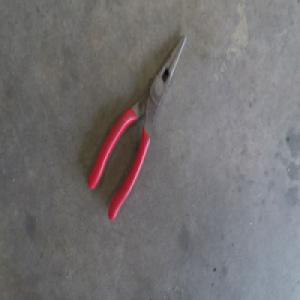Pliers: (88, 31, 187, 220)
